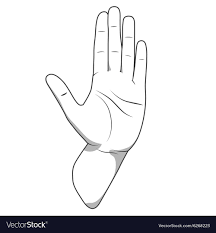palm: (87, 73, 146, 148)
